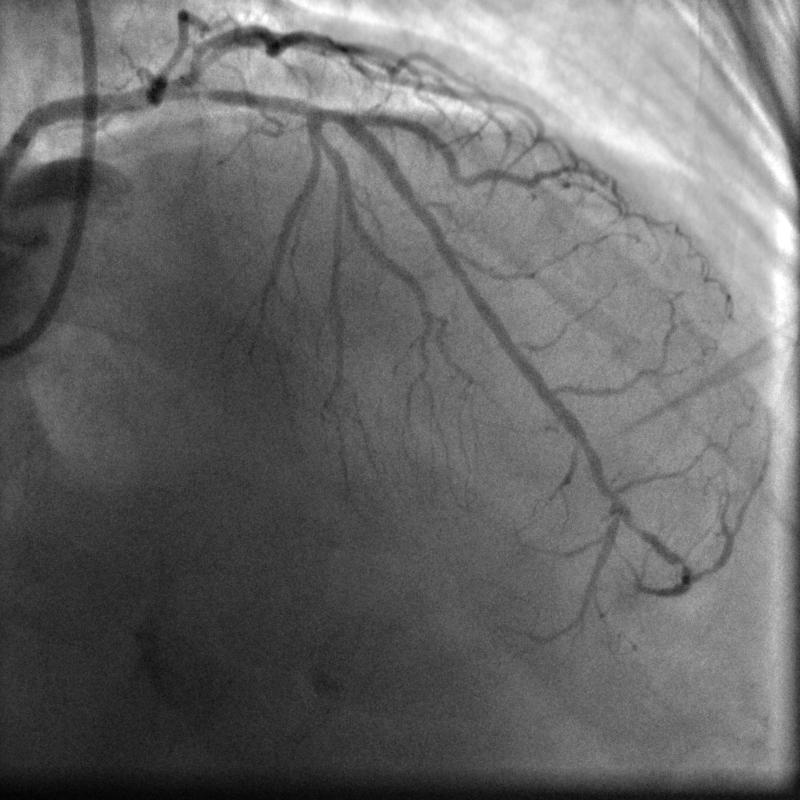Stenosis: (169, 81, 248, 108)
